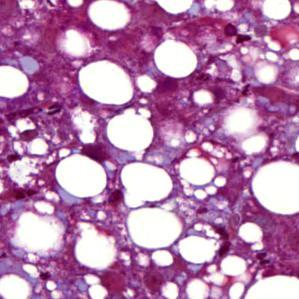steatosis: (75, 58, 137, 109), (54, 155, 109, 201), (125, 208, 185, 250), (105, 111, 156, 154), (151, 36, 200, 78)
